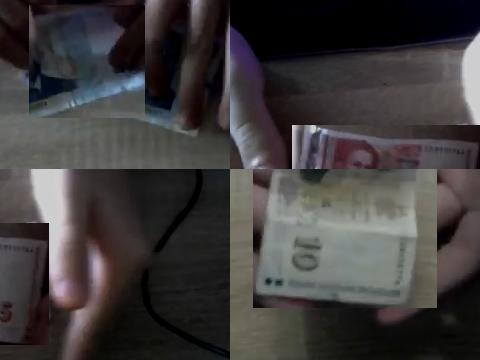10leva: (253, 169, 421, 308)
20leva: (29, 5, 145, 118)
5leva: (295, 125, 480, 169), (0, 238, 49, 345)
